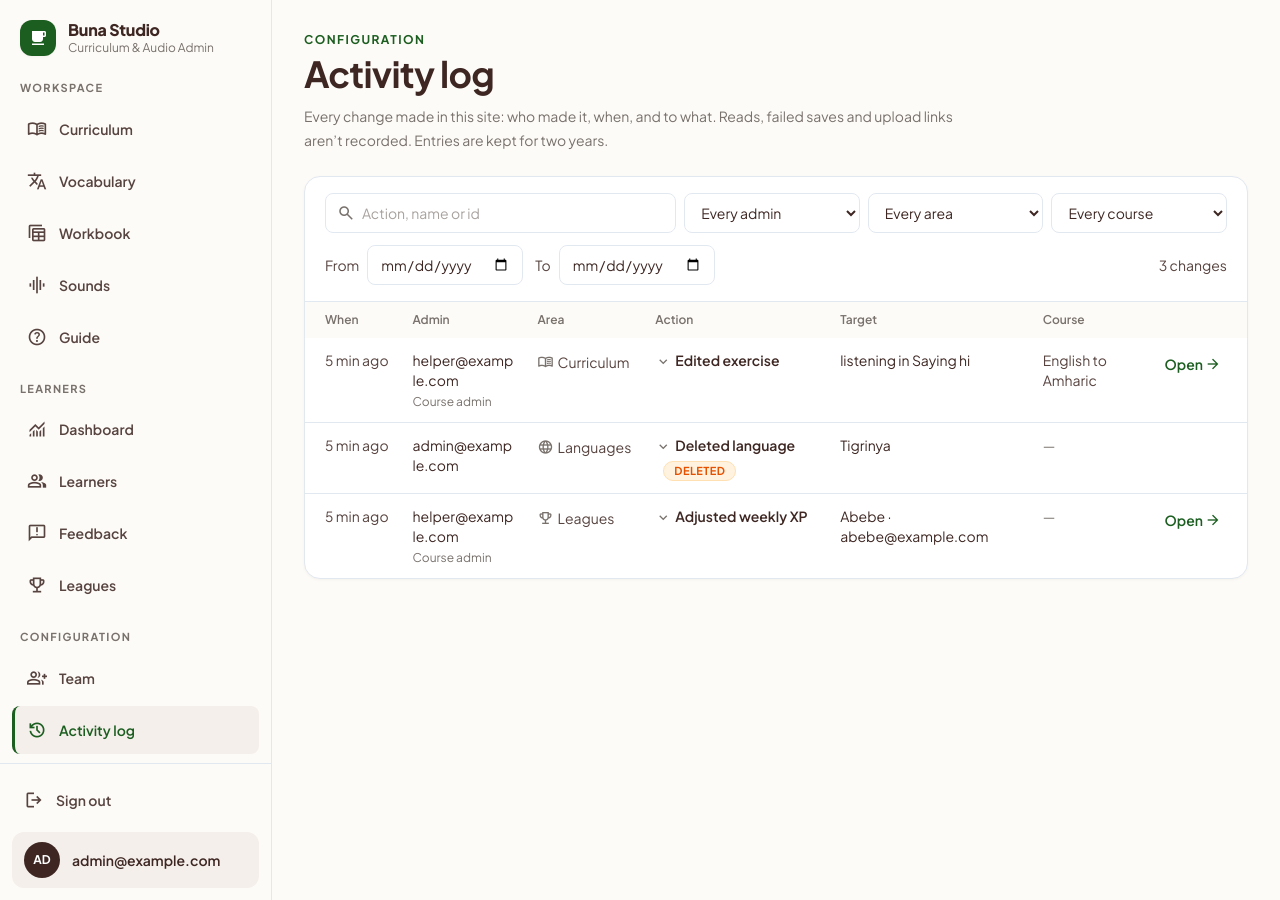
the activity log › expands a row to show its details
This screenshot has width=1280, height=900.
Click the button "Adjusted weekly XP".
click(731, 518)  # box [655,506,808,530]
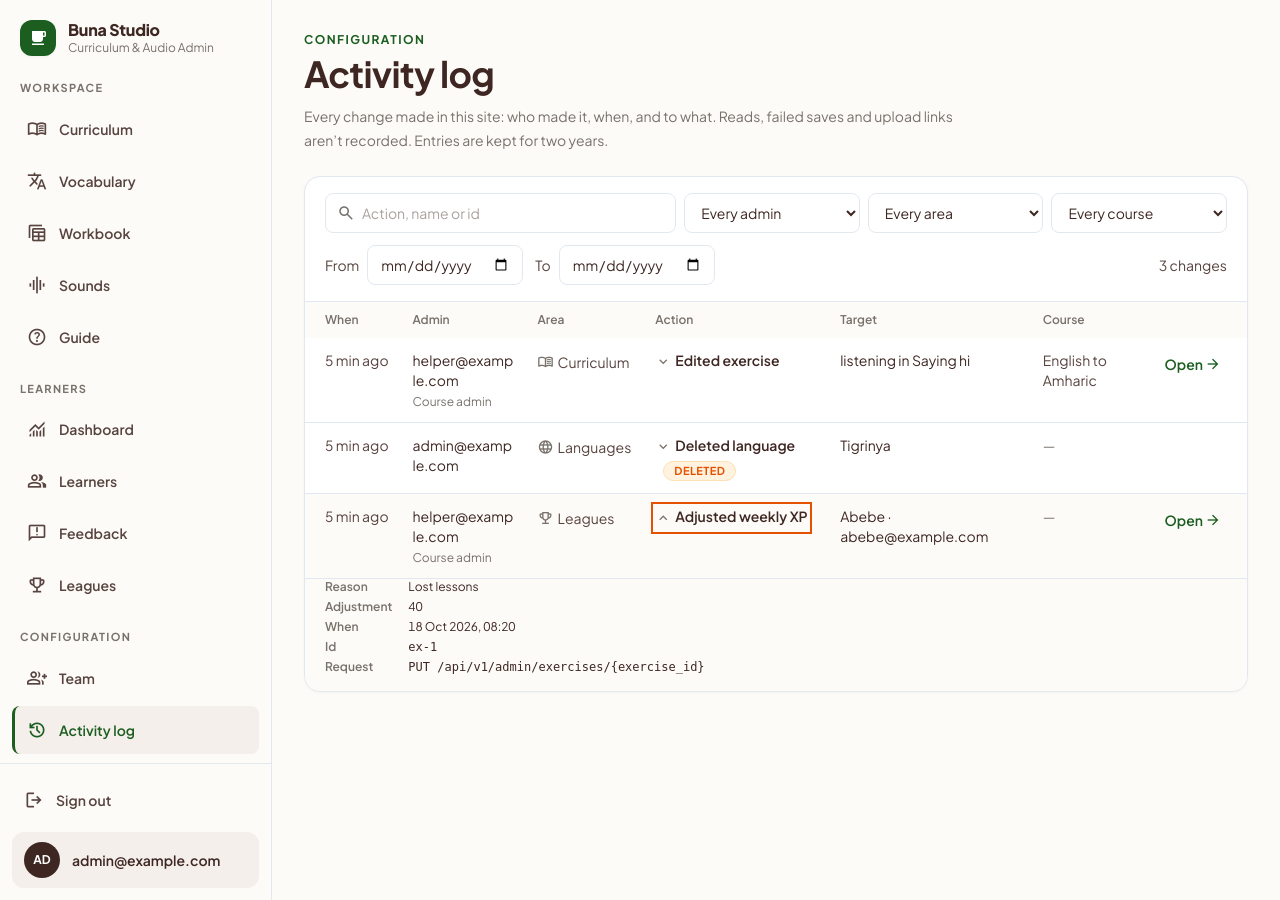
Result: the button "Adjusted weekly XP" is expanded at [655,506,808,530]
Result: the text "Lost lessons" is shown at [408,579,479,594]
Result: the text "PUT /api/v1/admin/exercises/{exercise_id}" is shown at [408,660,705,674]
